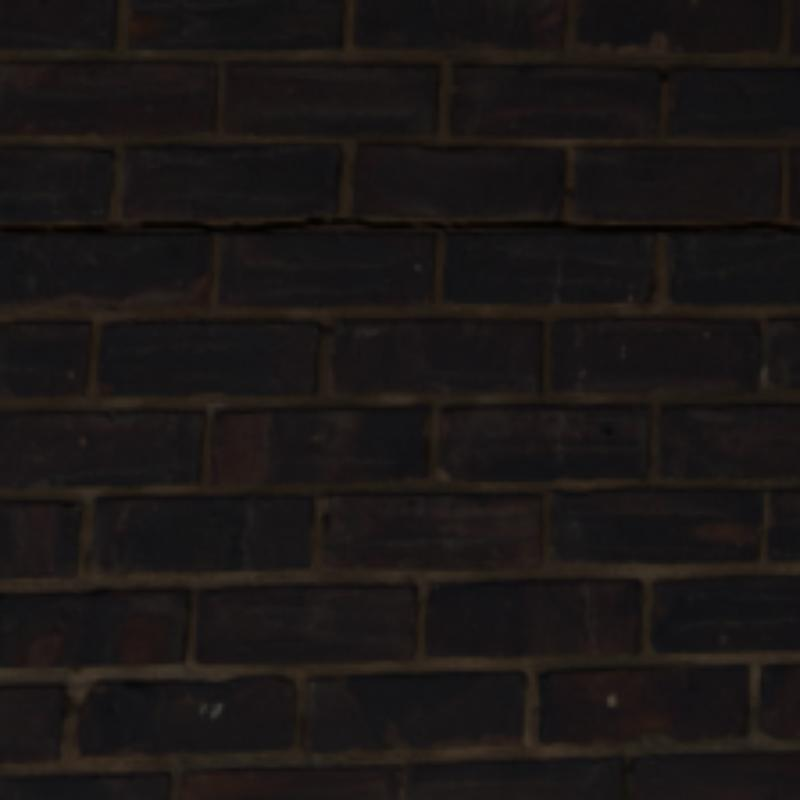pothole: (0, 218, 796, 229)
